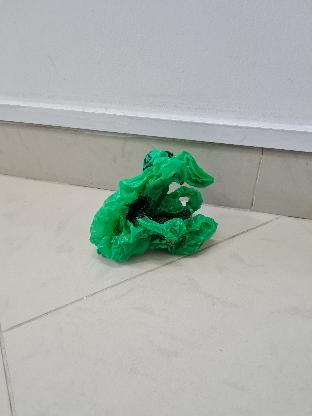Plastic Bag: (86, 149, 216, 265)
